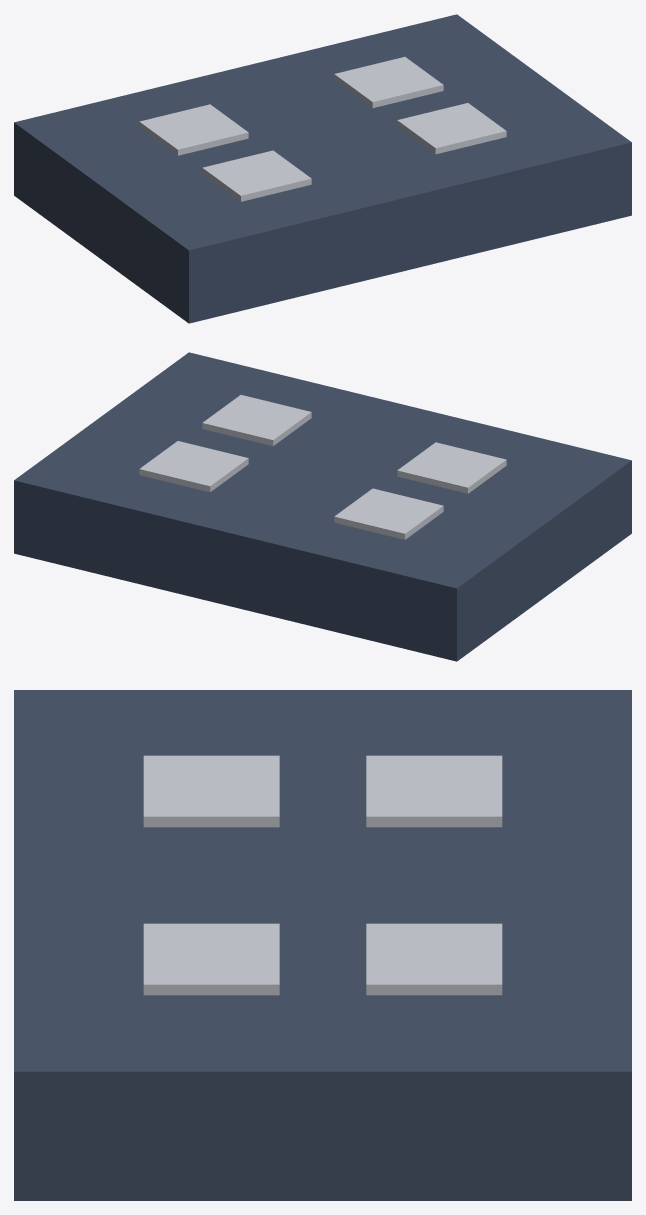
The model's file is cooktop.glb.
3 renders of one model, top to bottom at view 1: azimuth 30°, elevation 25°; view 2: azimuth 150°, elevation 25°; view 3: azimuth 270°, elevation 25°, orthographic. The views are drawn at different scales.
Bounding box in the file's own units: 0.76 × 0.13 × 0.52.
